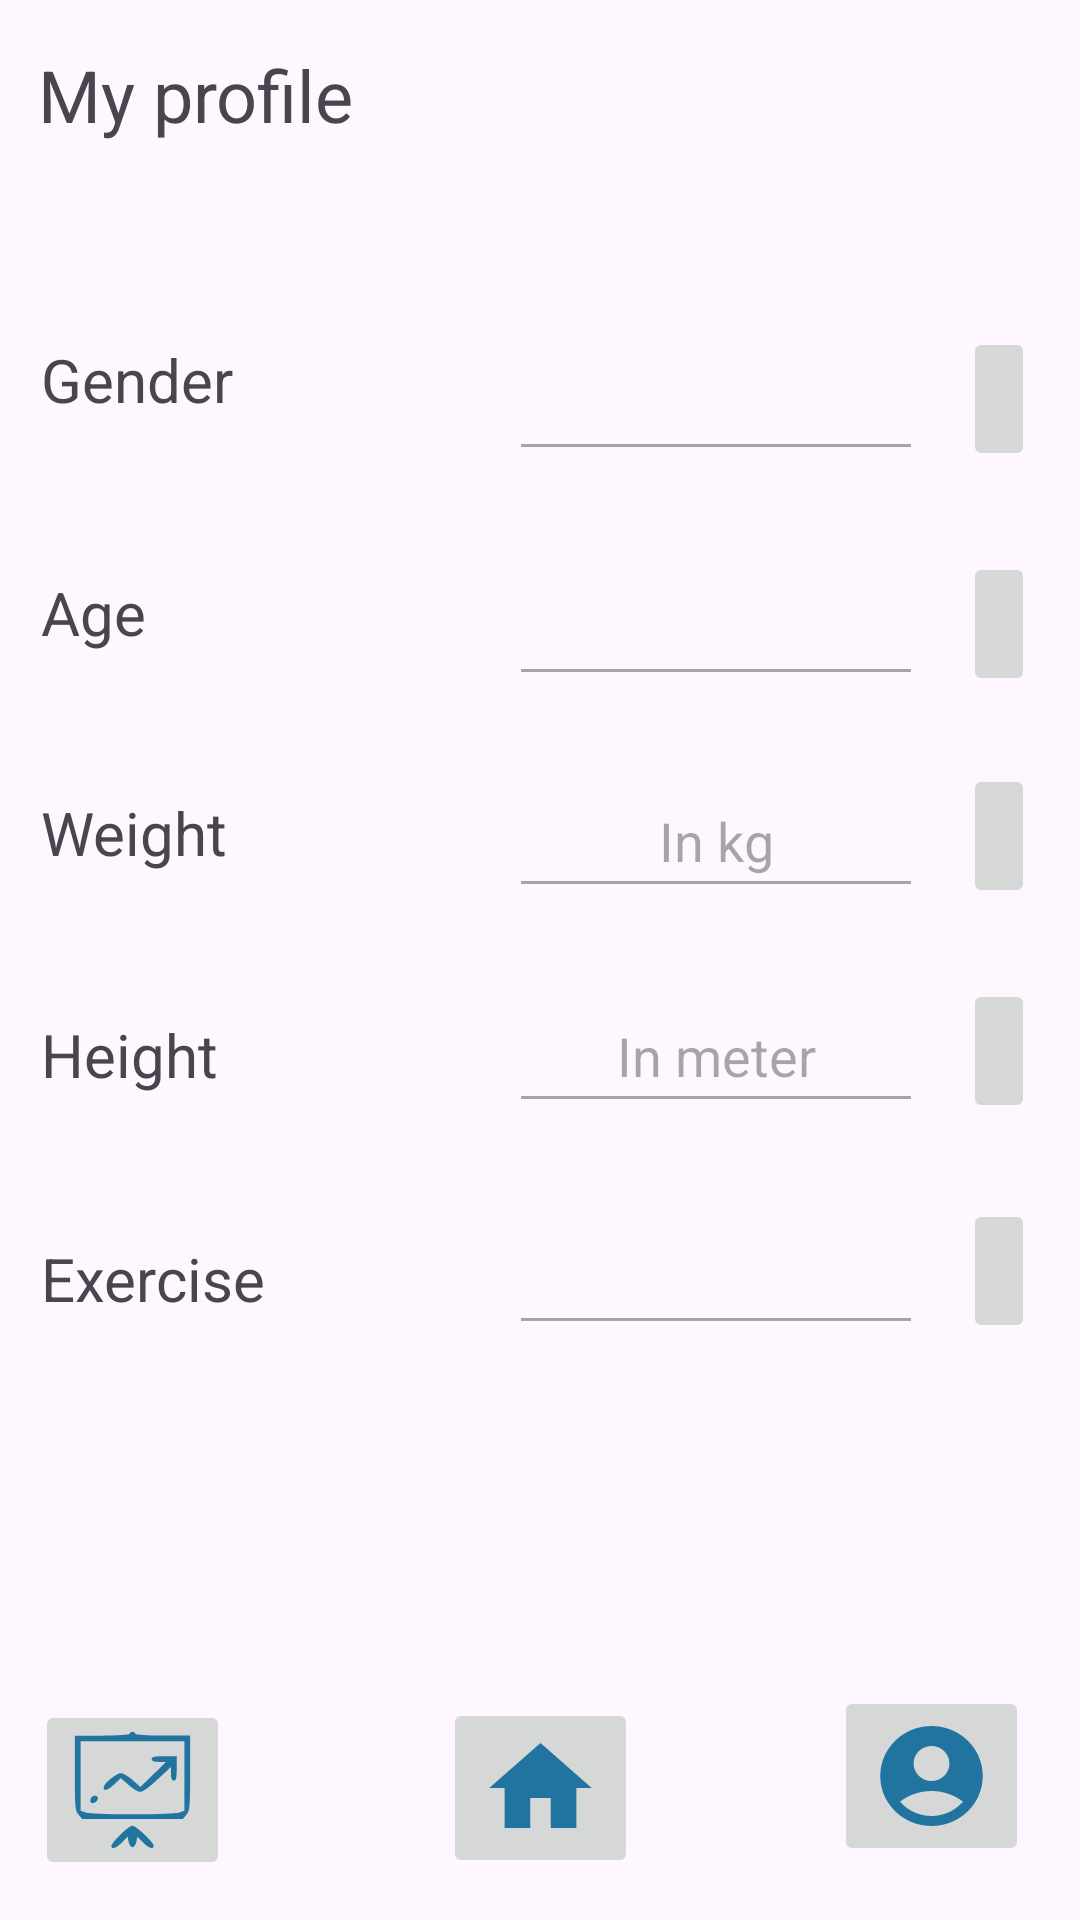

Icons on this 1080 x 1920 Android screen, each with the point to tap as (x,y):
account circle: (931,1776)
home: (540,1788)
statistics: (132,1790)
